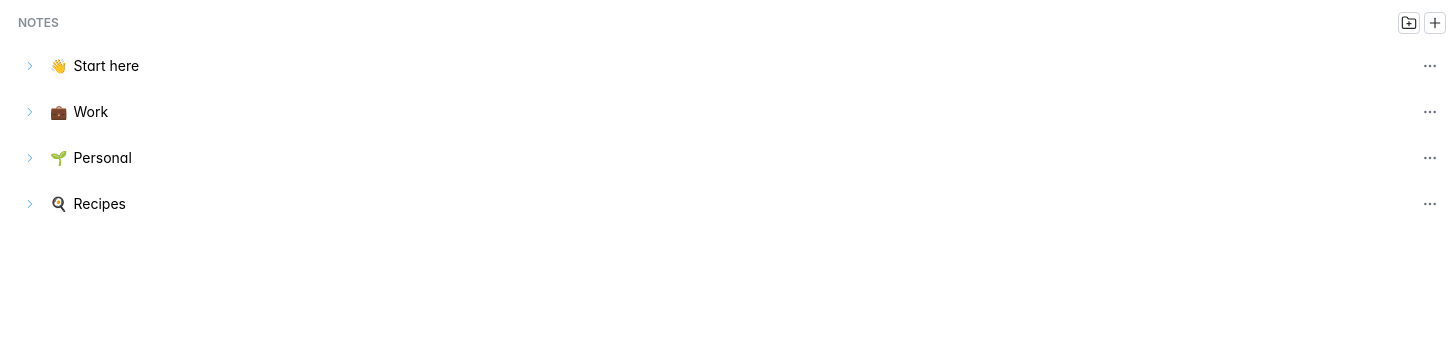
NotesSidebar › expands a folder on chevron click and shows its children
Click the button named "Expand " at (30, 66), box [12,48,48,84]
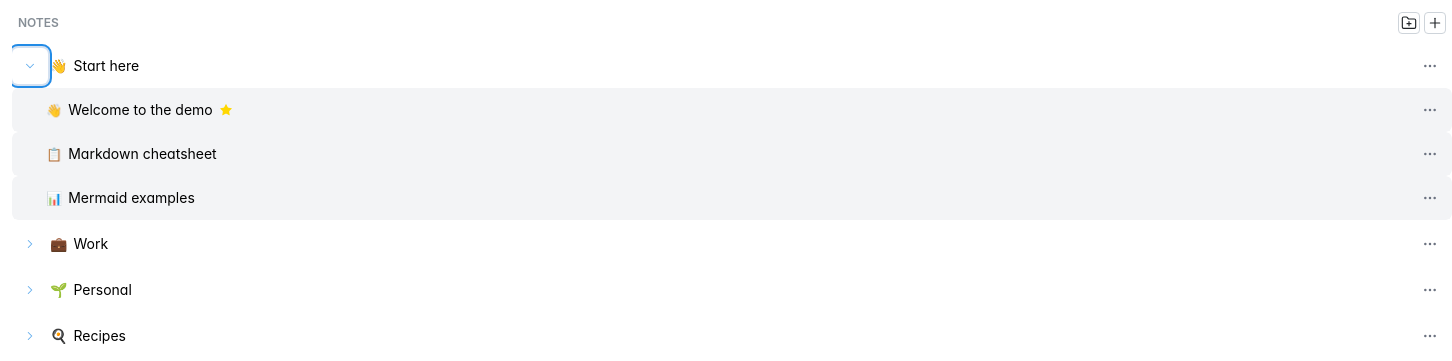
Now the text "Welcome to the demo" is shown, box [68,100,213,120]
